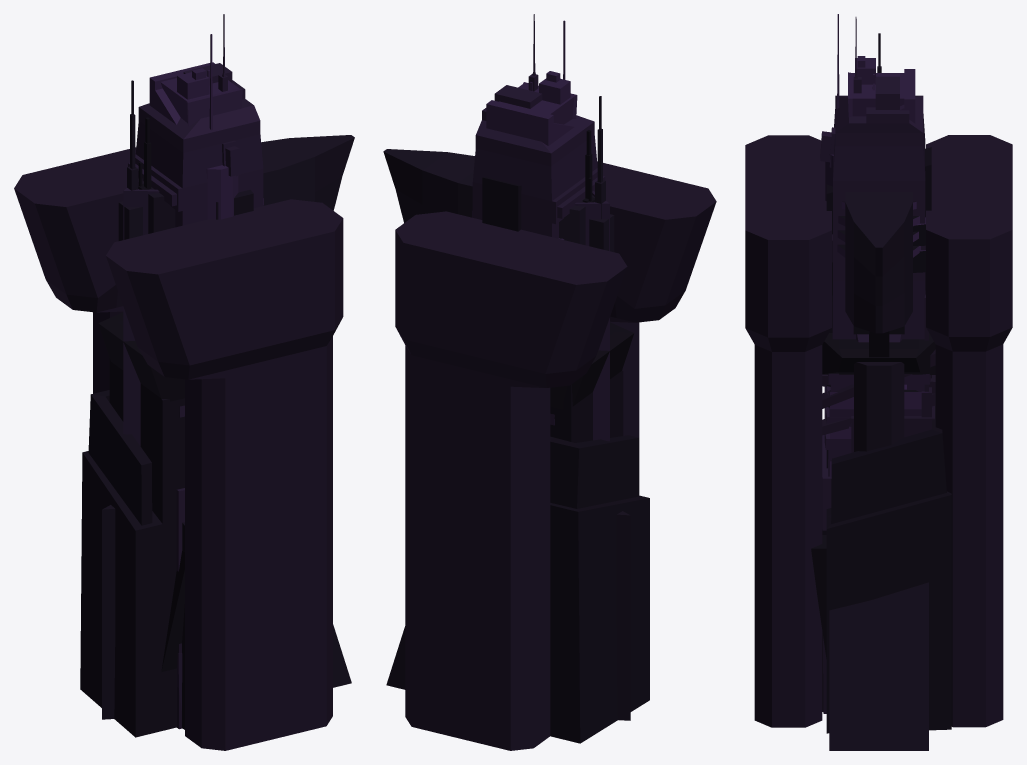
Rendered from cyberpunkbuildingscombined.glb.
The picture shows the model from 3 angles, left to right: view 1: azimuth 30°, elevation 25°; view 2: azimuth 150°, elevation 25°; view 3: azimuth 270°, elevation 25°; orthographic projection. The views are drawn at different scales.
Visible parts, largest first — view 1: Building04, Building03, Building11, Building06, Building14, Building07, Building02, Building01; view 2: Building04, Building03, Building11, Building06, Building14, Building02, Building07, Building01; view 3: Building04, Building06, Building03, Building11, Building07, Building02, Building14, Building08.
Part boxes in pixels (left/top/right/bottom): Building04: left=14, top=147, right=343, bottom=750; Building03: left=80, top=189, right=253, bottom=737; Building11: left=128, top=14, right=263, bottom=729; Building06: left=118, top=80, right=354, bottom=687; Building14: left=149, top=34, right=242, bottom=219; Building07: left=98, top=117, right=263, bottom=671; Building02: left=102, top=505, right=115, bottom=719; Building01: left=123, top=179, right=159, bottom=445; Building04: left=395, top=161, right=716, bottom=750; Building03: left=482, top=177, right=649, bottom=743; Building11: left=472, top=14, right=605, bottom=425; Building06: left=383, top=96, right=614, bottom=689; Building14: left=486, top=20, right=577, bottom=240; Building02: left=616, top=511, right=630, bottom=720; Building07: left=472, top=130, right=634, bottom=409; Building01: left=574, top=191, right=609, bottom=441; Building04: left=745, top=135, right=1012, bottom=727; Building06: left=829, top=33, right=928, bottom=750; Building03: left=822, top=147, right=951, bottom=733; Building11: left=820, top=17, right=932, bottom=713; Building07: left=811, top=201, right=935, bottom=658; Building02: left=854, top=362, right=904, bottom=451; Building14: left=825, top=14, right=925, bottom=272; Building08: left=823, top=294, right=934, bottom=713.
Size of the model in its own units: 29.95 by 70.58 by 24.81.
2 materials, 2 textured.
